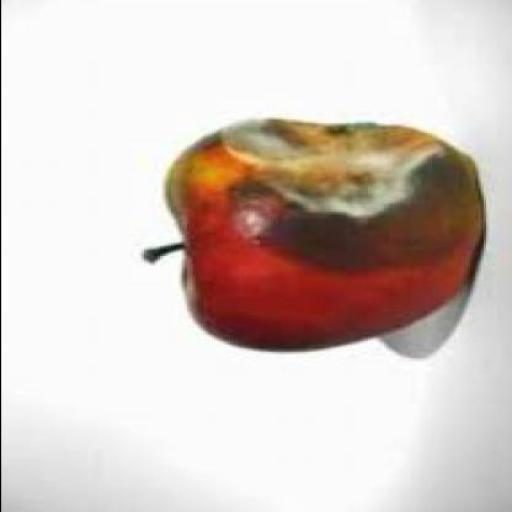biodegradable: (138, 118, 480, 356)
